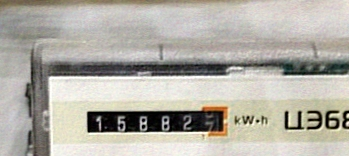1: (93, 114, 103, 133)
2: (181, 114, 192, 132)
5: (115, 116, 126, 133)
7: (203, 122, 214, 133)
8: (136, 115, 148, 133), (159, 115, 170, 133)
screen: (77, 101, 233, 145)
